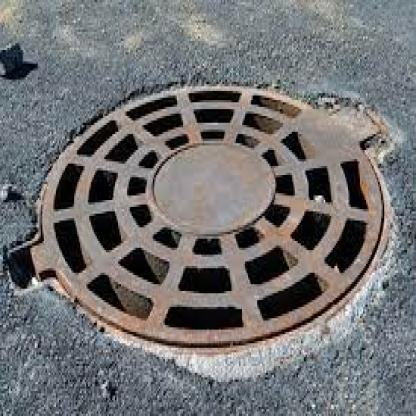open drainage-not overflowing-: (21, 60, 392, 344)
